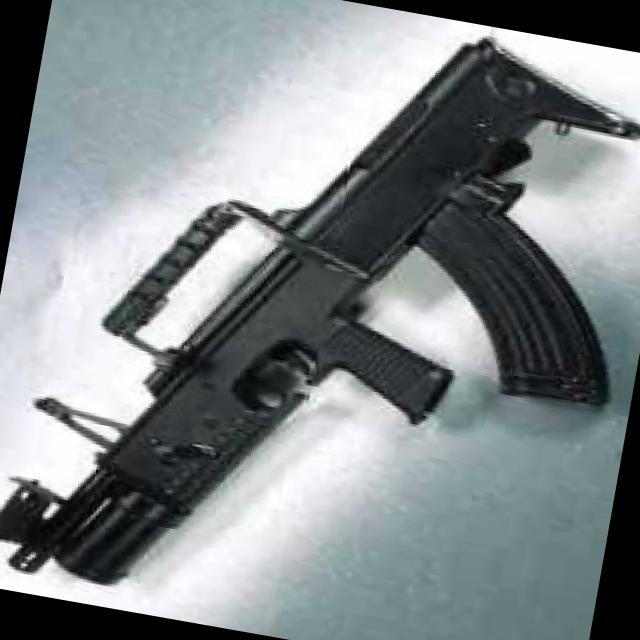long weapon: (0, 5, 518, 639)
